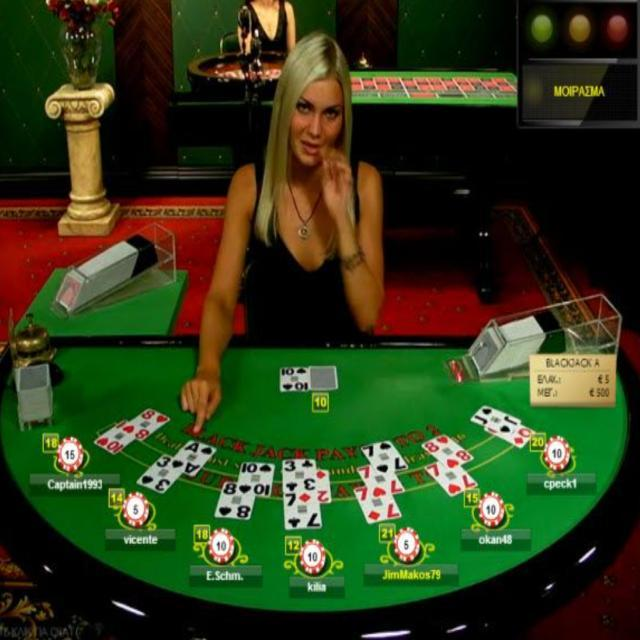Card-10: (93, 419, 134, 454), (236, 461, 275, 496), (279, 366, 309, 391)
Card-2: (298, 469, 331, 504)
Card-3: (137, 453, 187, 494), (283, 459, 315, 490)
Card-7: (353, 484, 402, 524), (424, 461, 478, 497), (356, 464, 405, 496), (360, 440, 407, 473), (284, 491, 321, 529)
Card-8: (422, 433, 474, 468), (123, 407, 171, 441), (215, 482, 256, 520)
Card-A: (174, 439, 217, 477)
Card-J: (471, 405, 520, 435)
Card-Q: (484, 424, 536, 448)
